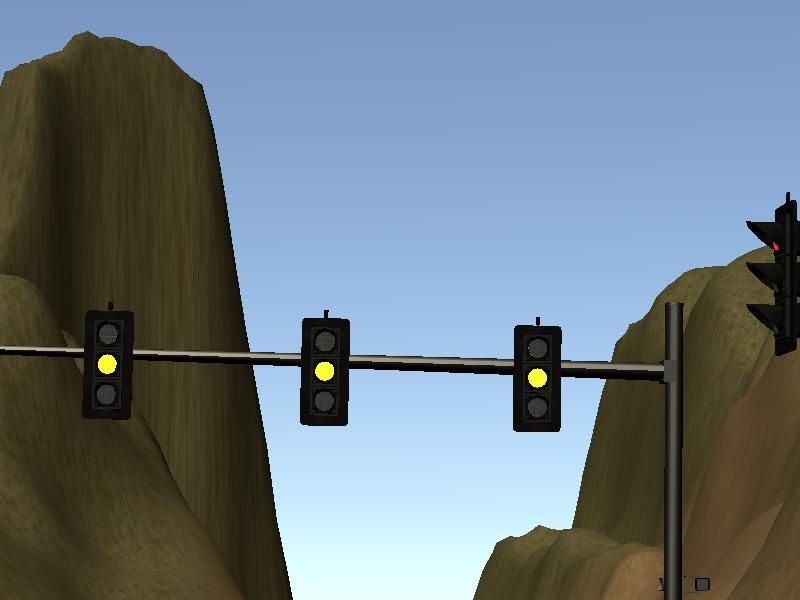YELLOW: (79, 308, 135, 420), (296, 315, 352, 427), (509, 319, 565, 431)
